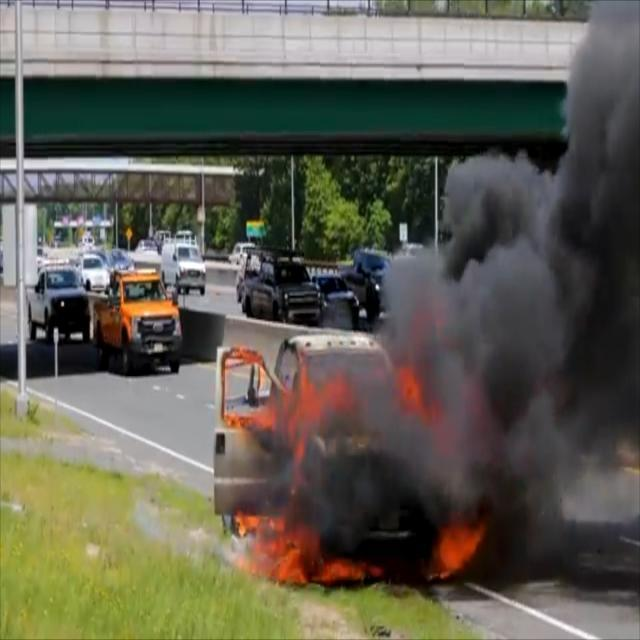fire: (225, 336, 490, 592)
